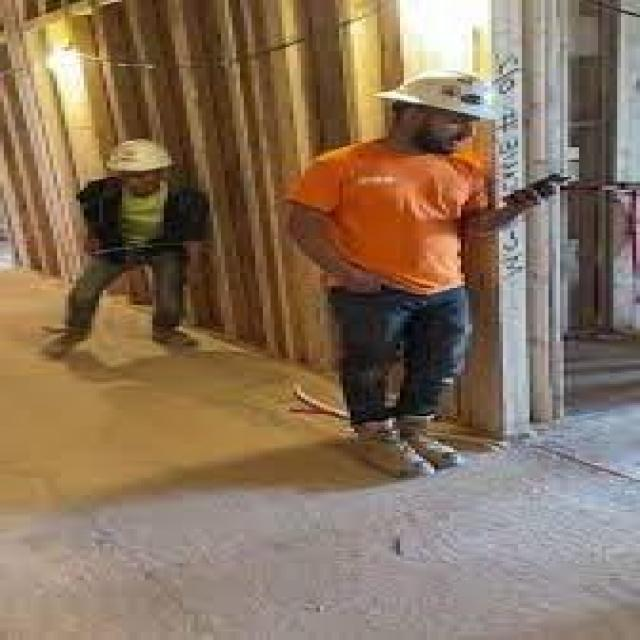Safety-Helmet: (358, 58, 537, 130), (88, 132, 186, 179)
